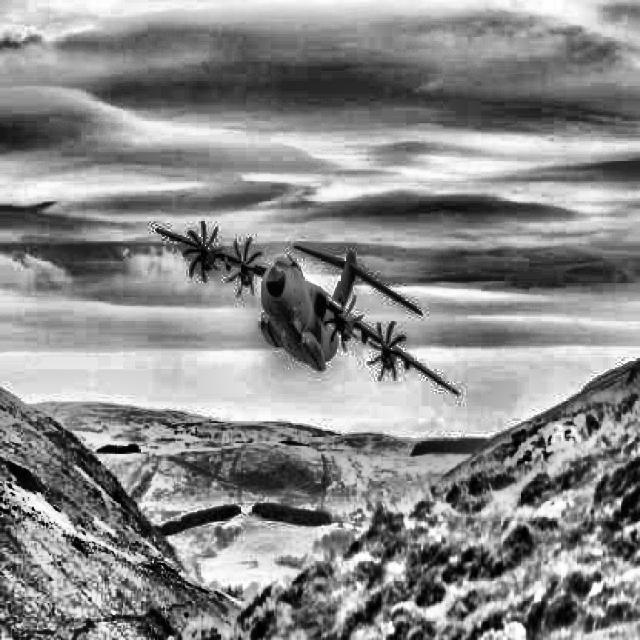A400M: (156, 220, 459, 395)
